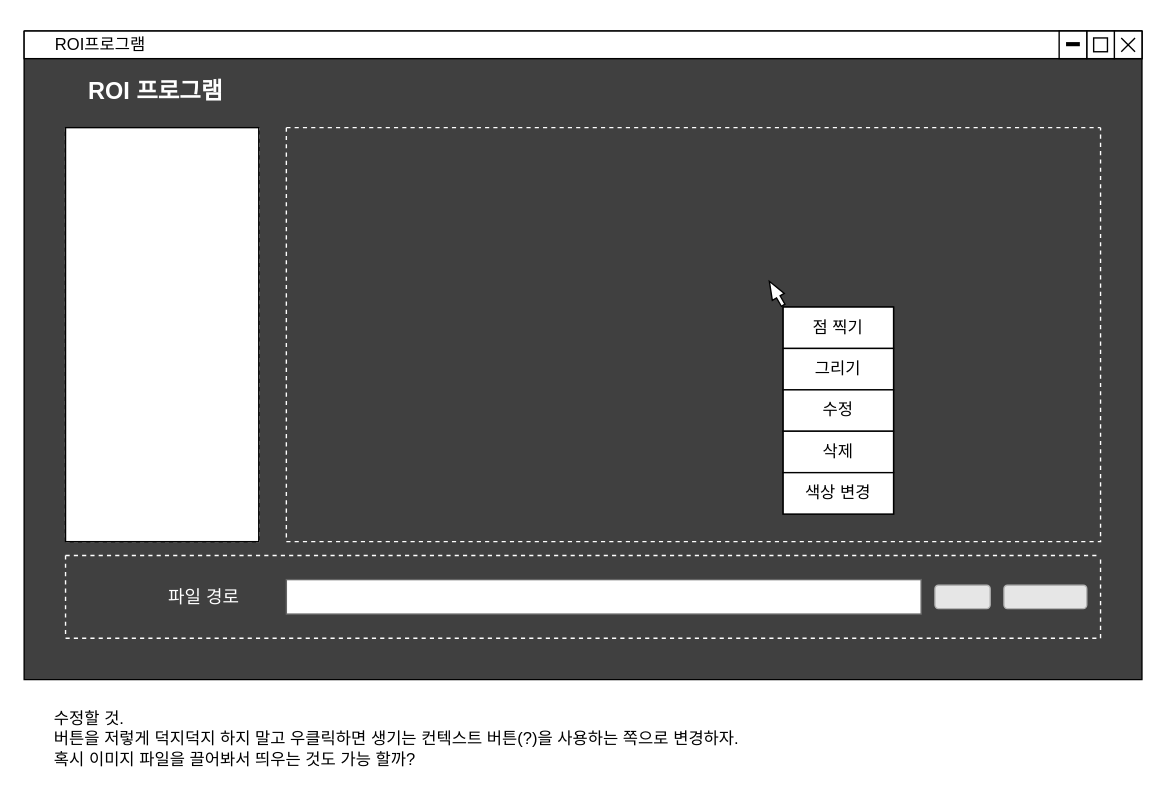
Image size: 1166x803. Some labels were removed from this diagram. The shapes that lost their labels are listed below. From the top down, each one's centre as x and y in pixels, then its label:
(x=603, y=596): Line 1
(x=962, y=596): 찾기
(x=1045, y=596): 불러오기
